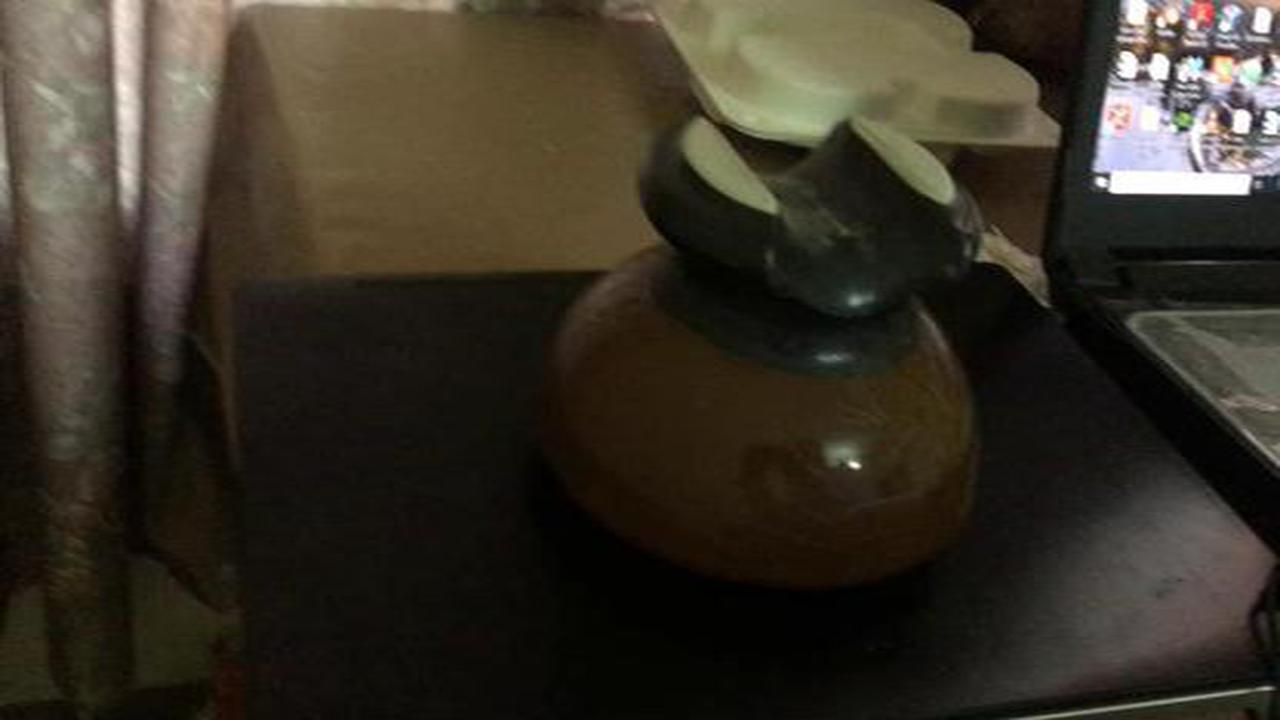insulator_pin: (499, 91, 1071, 611)
